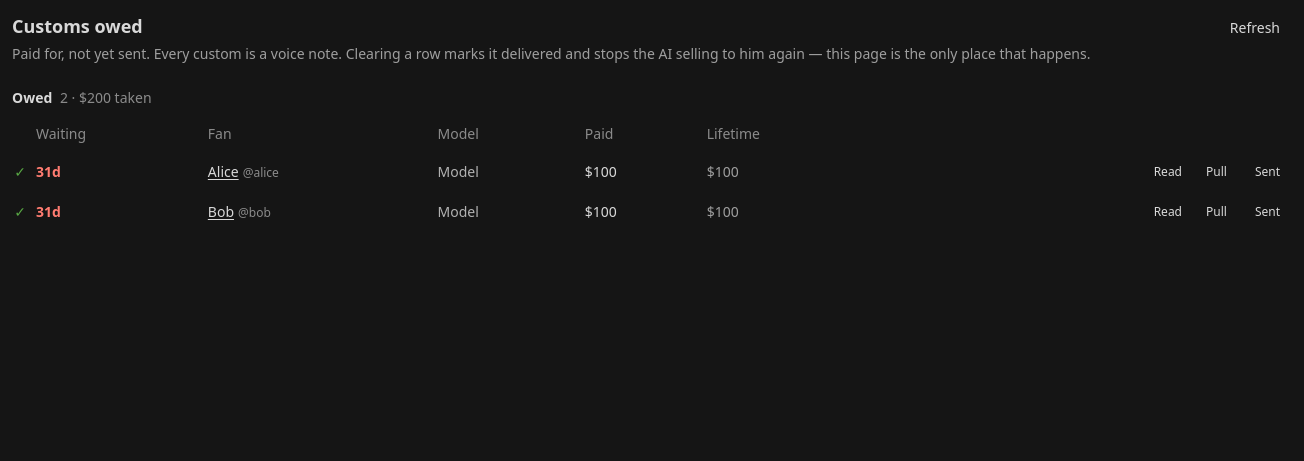
Scenario: CustomsTab pane › Read A, Pull A, Hide A during the rescrape: A stays closed, no second brief
The width and height of the screenshot is (1304, 461).
Step 1. Click the 1st button titled "Read the conversation around this tip" → click(1168, 172), box 1146,160 -> 1190,184
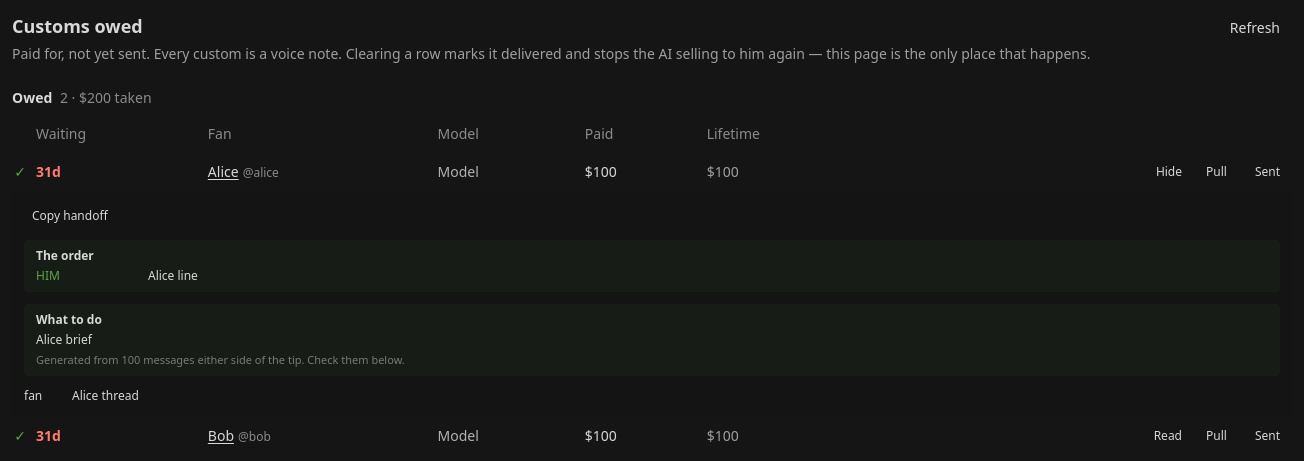
Step 2. Click the 1st button titled "Re-fetch this chat from OnlyFans, then re-read it" → click(1216, 172), box 1198,160 -> 1235,184
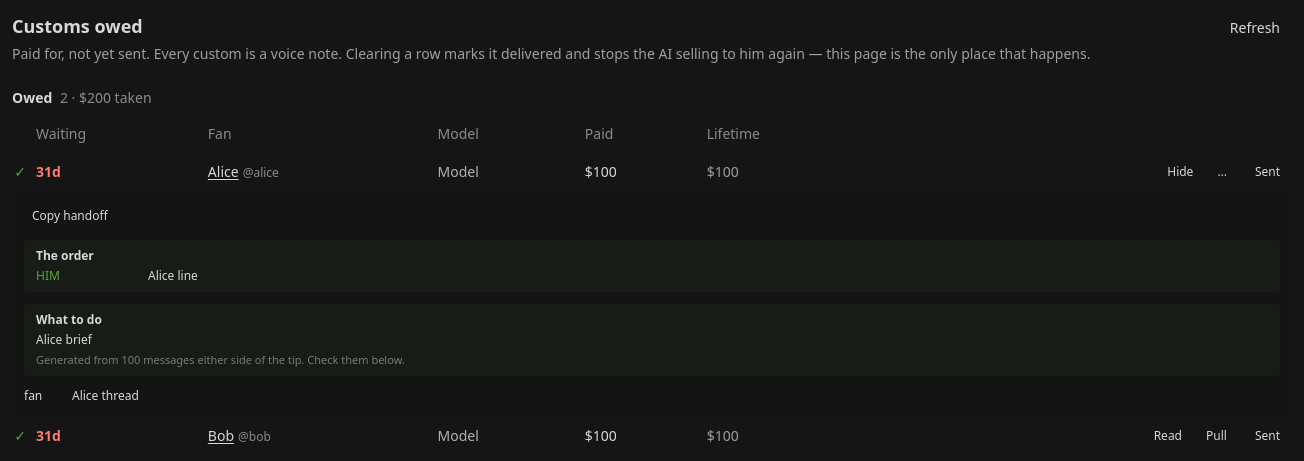
Step 3. Click the button titled "Read the conversation around this tip" → click(1180, 172), box 1159,160 -> 1201,184
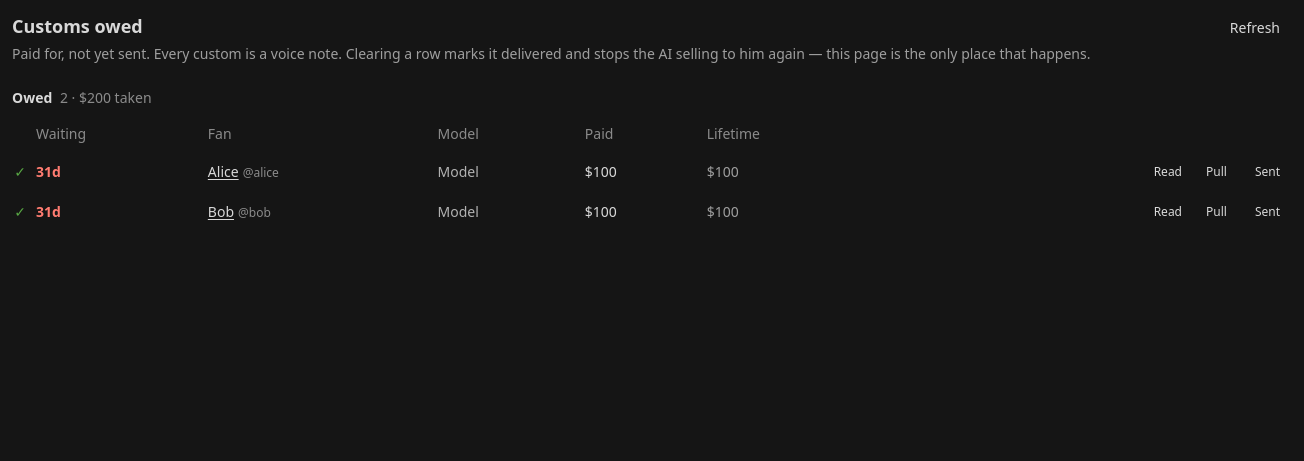
Expected: the 1st button titled "Re-fetch this chat from OnlyFans, then re-read it" reads "Pull", 1198,160 -> 1235,184
Expected: the 1st button titled "Read the conversation around this tip" is shown, 1146,160 -> 1190,184
